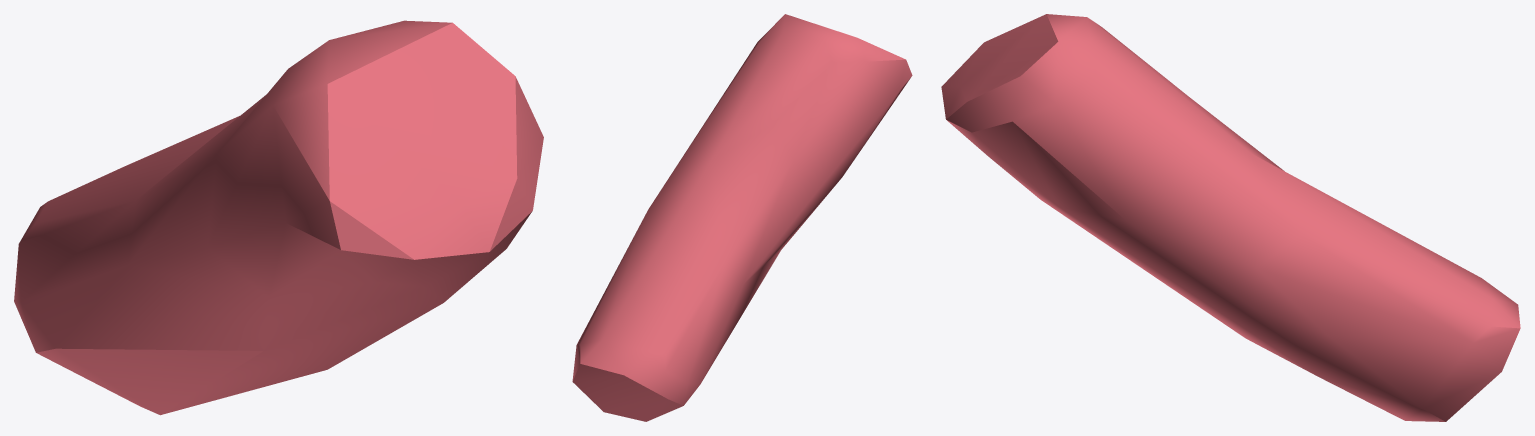
Rendered from fma18886_fj3524.glb.
3 views of the same model, side by side, from view 1: azimuth 30°, elevation 25°; view 2: azimuth 150°, elevation 25°; view 3: azimuth 270°, elevation 25° (orthographic). The views are drawn at different scales.
Parts seen in each view (by area): view 1: FMA18886_FJ3524; view 2: FMA18886_FJ3524; view 3: FMA18886_FJ3524.
Boxes of the visible parts, left/top/right/bottom form: FMA18886_FJ3524: left=14, top=20, right=543, bottom=415; FMA18886_FJ3524: left=572, top=14, right=912, bottom=421; FMA18886_FJ3524: left=941, top=14, right=1520, bottom=421.
Size of the model in its own units: 0.00863 by 0.0156 by 0.022.
